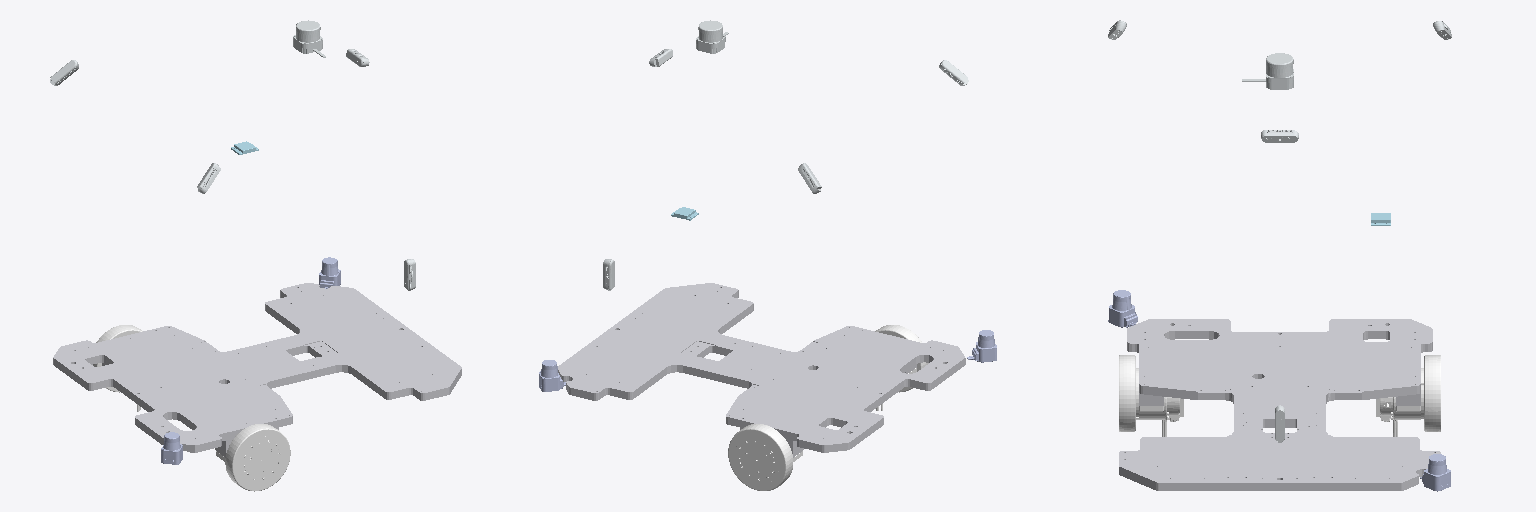
The robot description file, URDF, robot "clean_robot":
<?xml version="1.0" encoding="utf-8"?>
<!-- This URDF was automatically created by SolidWorks to URDF Exporter! Originally created by Stephen Brawner (brawner@gmail.com) 
     Commit Version: 1.5.1-0-g916b5db  Build Version: 1.5.7152.31018
     For more information, please see http://wiki.ros.org/sw_urdf_exporter -->
<robot
  name="clean_robot">
  <link
    name="base_link">
    <inertial>
      <origin
        xyz="0.00240726108493841 0.000418202039983564 0.00979407155909989"
        rpy="0 0 0" />
      <mass
        value="28.1386020223436" />
      <inertia
        ixx="1.02468969743477"
        ixy="0.0158941047042103"
        ixz="-0.00370358705210533"
        iyy="2.18751601311466"
        iyz="-2.28678674738598E-05"
        izz="3.20778172827221" />
    </inertial>
    <visual>
      <origin
        xyz="0 0 0"
        rpy="0 0 0" />
      <geometry>
        <mesh
          filename="package://clean_robot_urdf/meshes/base_link.STL" />
      </geometry>
      <material
        name="">
        <color
          rgba="0.866666666666667 0.866666666666667 0.890196078431372 1" />
      </material>
    </visual>
    <collision>
      <origin
        xyz="0 0 0"
        rpy="0 0 0" />
      <geometry>
        <mesh
          filename="package://clean_robot_urdf/meshes/base_link.STL" />
      </geometry>
    </collision>
  </link>
  <link
    name="left_wheel">
    <inertial>
      <origin
        xyz="-4.0925E-05 -0.023024 -0.00050223"
        rpy="0 0 0" />
      <mass
        value="1.0564" />
      <inertia
        ixx="0.0039835"
        ixy="-2.5313E-06"
        ixz="-2.7501E-06"
        iyy="0.004638"
        iyz="-3.3138E-05"
        izz="0.0041315" />
    </inertial>
    <visual>
      <origin
        xyz="0 0 0"
        rpy="0 0 0" />
      <geometry>
        <mesh
          filename="package://clean_robot_urdf/meshes/left_wheel.STL" />
      </geometry>
      <material
        name="">
        <color
          rgba="1 1 1 1" />
      </material>
    </visual>
    <collision>
      <origin
        xyz="0 0 0"
        rpy="0 0 0" />
      <geometry>
        <mesh
          filename="package://clean_robot_urdf/meshes/left_wheel.STL" />
      </geometry>
    </collision>
  </link>
  <joint
    name="left_wheel"
    type="continuous">
    <origin
      xyz="-0.21 0.35525 -0.057"
      rpy="0 0 0" />
    <parent
      link="base_link" />
    <child
      link="left_wheel" />
    <axis
      xyz="0 1 0" />
    <limit
      lower="-3.14"
      upper="3.14"
      effort="100"
      velocity="1" />
  </joint>
  <link
    name="right_wheel">
    <inertial>
      <origin
        xyz="4.0925E-05 0.023024 -0.00050223"
        rpy="0 0 0" />
      <mass
        value="1.0564" />
      <inertia
        ixx="0.0039835"
        ixy="-2.5313E-06"
        ixz="2.7501E-06"
        iyy="0.004638"
        iyz="3.3138E-05"
        izz="0.0041315" />
    </inertial>
    <visual>
      <origin
        xyz="0 0 0"
        rpy="0 0 0" />
      <geometry>
        <mesh
          filename="package://clean_robot_urdf/meshes/right_wheel.STL" />
      </geometry>
      <material
        name="">
        <color
          rgba="1 1 1 1" />
      </material>
    </visual>
    <collision>
      <origin
        xyz="0 0 0"
        rpy="0 0 0" />
      <geometry>
        <mesh
          filename="package://clean_robot_urdf/meshes/right_wheel.STL" />
      </geometry>
    </collision>
  </link>
  <joint
    name="right_wheel_joint"
    type="continuous">
    <origin
      xyz="-0.21 -0.35525 -0.057"
      rpy="0 0 0" />
    <parent
      link="base_link" />
    <child
      link="right_wheel" />
    <axis
      xyz="0 1 0" />
    <limit
      lower="-3.14"
      upper="3.14"
      effort="100"
      velocity="1" />
  </joint>
  <link
    name="gyro">
    <inertial>
      <origin
        xyz="3.1965E-05 -1.3878E-17 0.0060316"
        rpy="0 0 0" />
      <mass
        value="0.02361" />
      <inertia
        ixx="5.4191E-06"
        ixy="5.5519E-21"
        ixz="1.8141E-09"
        iyy="4.3874E-06"
        iyz="7.0038E-21"
        izz="9.3231E-06" />
    </inertial>
    <visual>
      <origin
        xyz="0 0 0"
        rpy="0 0 0" />
      <geometry>
        <mesh
          filename="package://clean_robot_urdf/meshes/gyro.STL" />
      </geometry>
      <material
        name="">
        <color
          rgba="0.74118 0.90196 0.95686 1" />
      </material>
    </visual>
    <collision>
      <origin
        xyz="0 0 0"
        rpy="0 0 0" />
      <geometry>
        <mesh
          filename="package://clean_robot_urdf/meshes/gyro.STL" />
      </geometry>
    </collision>
  </link>
  <joint
    name="gyro"
    type="fixed">
    <origin
      xyz="0.09075 0.234 0.5377"
      rpy="-3.1416 0 1.5708" />
    <parent
      link="base_link" />
    <child
      link="gyro" />
    <axis
      xyz="0 0 0" />
    <limit
      lower="-3.14"
      upper="3.14"
      effort="100"
      velocity="1" />
  </joint>
  <link
    name="front_laser">
    <inertial>
      <origin
        xyz="-0.550525948072943 0.0400079398991852 0.235547624375764"
        rpy="0 0 0" />
      <mass
        value="292.649704989435" />
      <inertia
        ixx="44.0373395468623"
        ixy="2.81633498450796"
        ixz="1.66357751279977"
        iyy="43.7828032777511"
        iyz="-2.18059444316504"
        izz="37.7889157054444" />
    </inertial>
    <visual>
      <origin
        xyz="0 0 0"
        rpy="0 0 0" />
      <geometry>
        <mesh
          filename="package://clean_robot_urdf/meshes/front_laser.STL" />
      </geometry>
      <material
        name="">
        <color
          rgba="0.792156862745098 0.819607843137255 0.933333333333333 1" />
      </material>
    </visual>
    <collision>
      <origin
        xyz="0 0 0"
        rpy="0 0 0" />
      <geometry>
        <mesh
          filename="package://clean_robot_urdf/meshes/front_laser.STL" />
      </geometry>
    </collision>
  </link>
  <joint
    name="front_laser"
    type="fixed">
    <origin
      xyz="0.42468 0.36619 0.0495"
      rpy="0 0 0.7854" />
    <parent
      link="base_link" />
    <child
      link="front_laser" />
    <axis
      xyz="0 0 0" />
    <limit
      lower="-3.14"
      upper="3.14"
      effort="100"
      velocity="1" />
  </joint>
  <link
    name="back_laser">
    <inertial>
      <origin
        xyz="-0.606063155895012 0.0792949530645376 0.235547624375765"
        rpy="0 0 0" />
      <mass
        value="292.649704989435" />
      <inertia
        ixx="44.0373395468623"
        ixy="2.81633498450796"
        ixz="-1.66357751279979"
        iyy="43.7828032777511"
        iyz="2.18059444316503"
        izz="37.7889157054444" />
    </inertial>
    <visual>
      <origin
        xyz="0 0 0"
        rpy="0 0 0" />
      <geometry>
        <mesh
          filename="package://clean_robot_urdf/meshes/back_laser.STL" />
      </geometry>
      <material
        name="">
        <color
          rgba="0.792156862745098 0.819607843137255 0.933333333333333 1" />
      </material>
    </visual>
    <collision>
      <origin
        xyz="0 0 0"
        rpy="0 0 0" />
      <geometry>
        <mesh
          filename="package://clean_robot_urdf/meshes/back_laser.STL" />
      </geometry>
    </collision>
  </link>
  <joint
    name="back_laser"
    type="fixed">
    <origin
      xyz="-0.47752 -0.36729 0.0495"
      rpy="0 0 -2.3562" />
    <parent
      link="base_link" />
    <child
      link="back_laser" />
    <axis
      xyz="0 0 0" />
    <limit
      lower="-3.14"
      upper="3.14"
      effort="100"
      velocity="1" />
  </joint>
  <link
    name="left_camera">
    <inertial>
      <origin
        xyz="-0.0141516366925666 -3.26056080095505E-05 0.00213468650215209"
        rpy="0 0 0" />
      <mass
        value="0.0330606537395875" />
      <inertia
        ixx="2.18493760077461E-05"
        ixy="-6.17717819624996E-09"
        ixz="1.25370444127801E-07"
        iyy="2.18264141606428E-05"
        iyz="-1.50421742192633E-09"
        izz="3.29669338756779E-06" />
    </inertial>
    <visual>
      <origin
        xyz="0 0 0"
        rpy="0 0 0" />
      <geometry>
        <mesh
          filename="package://clean_robot_urdf/meshes/left_camera.STL" />
      </geometry>
      <material
        name="">
        <color
          rgba="0.898039215686275 0.917647058823529 0.929411764705882 1" />
      </material>
    </visual>
    <collision>
      <origin
        xyz="0 0 0"
        rpy="0 0 0" />
      <geometry>
        <mesh
          filename="package://clean_robot_urdf/meshes/left_camera.STL" />
      </geometry>
    </collision>
  </link>
  <joint
    name="left_camera"
    type="fixed">
    <origin
      xyz="-0.36459 0.38251 0.79049"
      rpy="0.59889 0.72678 0.47536" />
    <parent
      link="base_link" />
    <child
      link="left_camera" />
    <axis
      xyz="0 0 0" />
    <limit
      lower="-3.14"
      upper="3.14"
      effort="100"
      velocity="1" />
  </joint>
  <link
    name="right_camera">
    <inertial>
      <origin
        xyz="-0.0141516361666065 -3.26036350821735E-05 0.00213466768908482"
        rpy="0 0 0" />
      <mass
        value="0.0330606483873418" />
      <inertia
        ixx="2.18493477974992E-05"
        ixy="-6.17679741189438E-09"
        ixz="1.25366332467947E-07"
        iyy="2.18263835224402E-05"
        iyz="-1.50439378133062E-09"
        izz="3.29669552730337E-06" />
    </inertial>
    <visual>
      <origin
        xyz="0 0 0"
        rpy="0 0 0" />
      <geometry>
        <mesh
          filename="package://clean_robot_urdf/meshes/right_camera.STL" />
      </geometry>
      <material
        name="">
        <color
          rgba="0.898039215686275 0.917647058823529 0.929411764705882 1" />
      </material>
    </visual>
    <collision>
      <origin
        xyz="0 0 0"
        rpy="0 0 0" />
      <geometry>
        <mesh
          filename="package://clean_robot_urdf/meshes/right_camera.STL" />
      </geometry>
    </collision>
  </link>
  <joint
    name="right_camera"
    type="fixed">
    <origin
      xyz="-0.36449 -0.38247 0.79057"
      rpy="-0.59889 0.72678 -0.47536" />
    <parent
      link="base_link" />
    <child
      link="right_camera" />
    <axis
      xyz="0 0 0" />
    <limit
      lower="-3.14"
      upper="3.14"
      effort="100"
      velocity="1" />
  </joint>
  <link
    name="up_camera">
    <inertial>
      <origin
        xyz="-0.0141516243722175 -3.26096145666366E-05 0.00213464076433513"
        rpy="0 0 0" />
      <mass
        value="0.0330606354180295" />
      <inertia
        ixx="2.1849341566882E-05"
        ixy="-6.17921287204605E-09"
        ixz="1.25356970547292E-07"
        iyy="2.18263739734521E-05"
        iyz="-1.49626199314348E-09"
        izz="3.29669412757788E-06" />
    </inertial>
    <visual>
      <origin
        xyz="0 0 0"
        rpy="0 0 0" />
      <geometry>
        <mesh
          filename="package://clean_robot_urdf/meshes/up_camera.STL" />
      </geometry>
      <material
        name="">
        <color
          rgba="0.898039215686275 0.917647058823529 0.929411764705882 1" />
      </material>
    </visual>
    <collision>
      <origin
        xyz="0 0 0"
        rpy="0 0 0" />
      <geometry>
        <mesh
          filename="package://clean_robot_urdf/meshes/up_camera.STL" />
      </geometry>
    </collision>
  </link>
  <joint
    name="up_camera"
    type="fixed">
    <origin
      xyz="0.30874 0 0.83696"
      rpy="1.5708 0.20944 0" />
    <parent
      link="base_link" />
    <child
      link="up_camera" />
    <axis
      xyz="0 0 0" />
    <limit
      lower="-3.14"
      upper="3.14"
      effort="100"
      velocity="1" />
  </joint>
  <link
    name="down_camera">
    <inertial>
      <origin
        xyz="-0.0141516246150703 -3.2608990155269E-05 0.00213463913380307"
        rpy="0 0 0" />
      <mass
        value="0.0330606407134946" />
      <inertia
        ixx="2.18493246164614E-05"
        ixy="-6.1789784629534E-09"
        ixz="1.25354729142066E-07"
        iyy="2.18263555001382E-05"
        iyz="-1.49709330581095E-09"
        izz="3.29669547205362E-06" />
    </inertial>
    <visual>
      <origin
        xyz="0 0 0"
        rpy="0 0 0" />
      <geometry>
        <mesh
          filename="package://clean_robot_urdf/meshes/down_camera.STL" />
      </geometry>
      <material
        name="">
        <color
          rgba="0.898039215686275 0.917647058823529 0.929411764705882 1" />
      </material>
    </visual>
    <collision>
      <origin
        xyz="0 0 0"
        rpy="0 0 0" />
      <geometry>
        <mesh
          filename="package://clean_robot_urdf/meshes/down_camera.STL" />
      </geometry>
    </collision>
  </link>
  <joint
    name="down_camera"
    type="fixed">
    <origin
      xyz="0.468 0 0.17399"
      rpy="0 0 0" />
    <parent
      link="base_link" />
    <child
      link="down_camera" />
    <axis
      xyz="0 0 0" />
    <limit
      lower="-3.14"
      upper="3.14"
      effort="100"
      velocity="1" />
  </joint>
  <link
    name="laser">
    <inertial>
      <origin
        xyz="4.01377249381607E-07 -0.0004029337120008 -0.0123695383858642"
        rpy="0 0 0" />
      <mass
        value="0.231565199535219" />
      <inertia
        ixx="0.000154249816516349"
        ixy="3.19274550737147E-09"
        ixz="1.57803601278125E-09"
        iyy="0.000148311975446975"
        iyz="-2.12876270026058E-06"
        izz="0.000139022675797784" />
    </inertial>
    <visual>
      <origin
        xyz="0 0 0"
        rpy="0 0 0" />
      <geometry>
        <mesh
          filename="package://clean_robot_urdf/meshes/laser.STL" />
      </geometry>
      <material
        name="">
        <color
          rgba="0.898039215686275 0.917647058823529 0.929411764705882 1" />
      </material>
    </visual>
    <collision>
      <origin
        xyz="0 0 0"
        rpy="0 0 0" />
      <geometry>
        <mesh
          filename="package://clean_robot_urdf/meshes/laser.STL" />
      </geometry>
    </collision>
  </link>
  <joint
    name="laser"
    type="fixed">
    <origin
      xyz="0.14712 -0.00045106 0.94715"
      rpy="0 0 0" />
    <parent
      link="base_link" />
    <child
      link="laser" />
    <axis
      xyz="0 0 0" />
    <limit
      lower="-3.14"
      upper="3.14"
      effort="100"
      velocity="1" />
  </joint>
</robot>

--- Facts derived from the render (not from the file) ---
3 views of the same robot in one strip: view 1: azimuth 30°, elevation 25°; view 2: azimuth 150°, elevation 25°; view 3: azimuth 270°, elevation 25° (orthographic).
Model clean_robot with 11 links and 10 joints (2 continuous, 8 fixed), rooted at base_link, posed every joint at zero.
Visible links, largest first — view 1: base_link, right_wheel, laser, back_laser, front_laser; view 2: base_link, left_wheel, laser, back_laser, front_laser, right_wheel; view 3: base_link, right_wheel, left_wheel, laser, back_laser, front_laser.
Boxes of the visible links, box(x1,y1,x2,y2) form: base_link: box(53, 283, 461, 457); right_wheel: box(216, 424, 290, 491); laser: box(293, 20, 325, 57); back_laser: box(161, 432, 182, 464); front_laser: box(319, 257, 340, 288); base_link: box(558, 283, 965, 457); left_wheel: box(728, 424, 802, 490); laser: box(696, 20, 728, 53); back_laser: box(967, 330, 996, 362); front_laser: box(539, 360, 565, 391); right_wheel: box(875, 325, 928, 410); base_link: box(1119, 319, 1440, 490); right_wheel: box(1119, 355, 1183, 436); left_wheel: box(1376, 355, 1440, 436); laser: box(1242, 53, 1293, 89); back_laser: box(1108, 290, 1137, 327); front_laser: box(1420, 454, 1450, 491).
Bounding box of the posed robot: 0.978 × 0.7993 × 1.14 m (x, y, z).
Meshes: 11 distinct files referenced, 11 mesh visuals loaded (11 binary STL).
